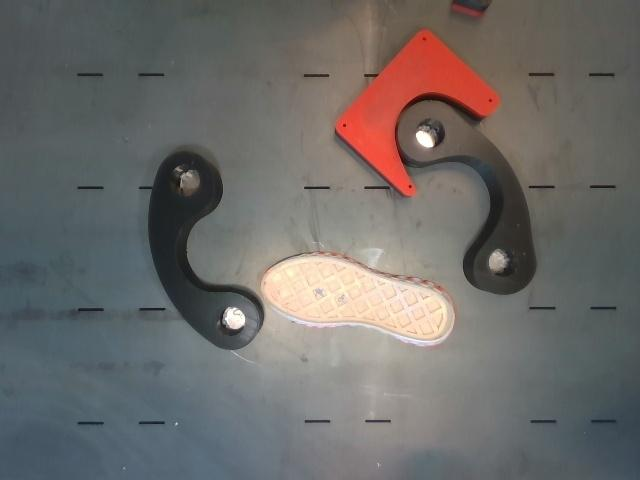shoes: (263, 257, 453, 340)
